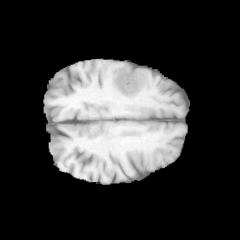glioma: (112, 67, 146, 98)
